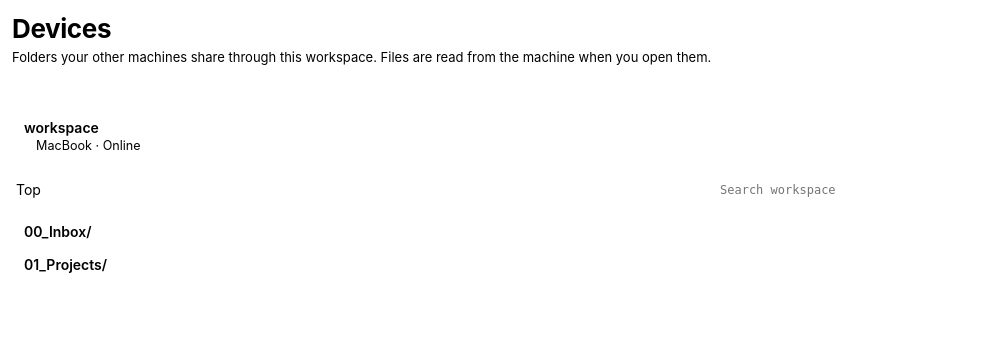
Scenario: DevicesPage › browses a shared vault and opens a TODO.md as a checklist
Click the button "00_Inbox/".
click(58, 231)  # box x1=12 y1=215 x2=972 y2=248
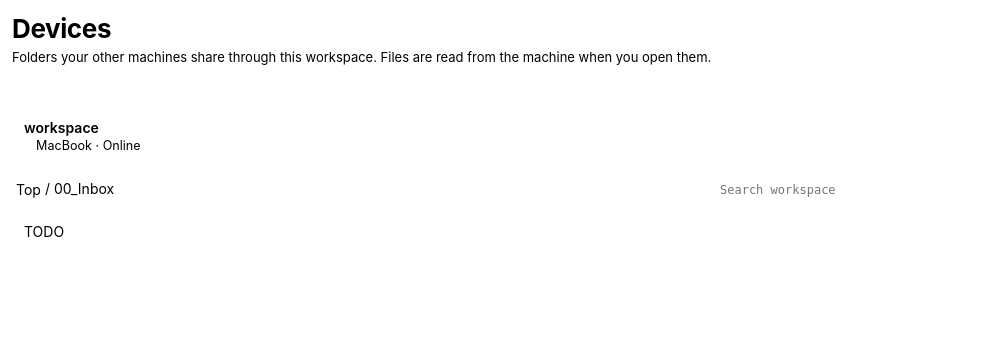
Click the button "TODO".
click(44, 231)  # box x1=12 y1=215 x2=972 y2=248
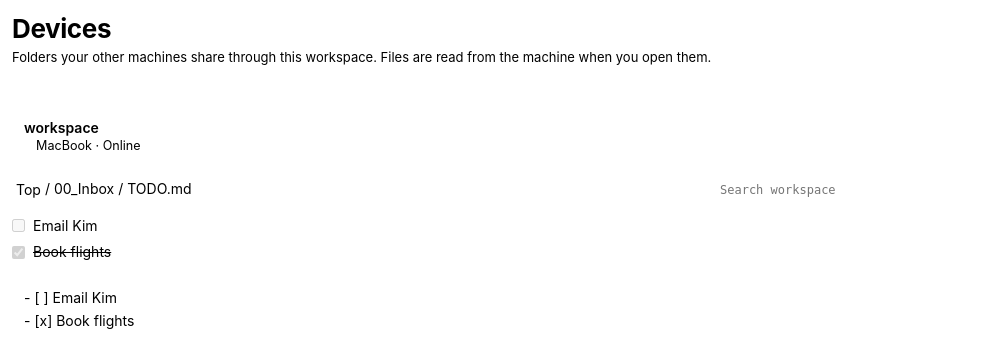
Result: the text "Email Kim" is shown at x1=33 y1=215 x2=98 y2=237
Result: the list named "Checklist" is shown at x1=12 y1=217 x2=111 y2=260
